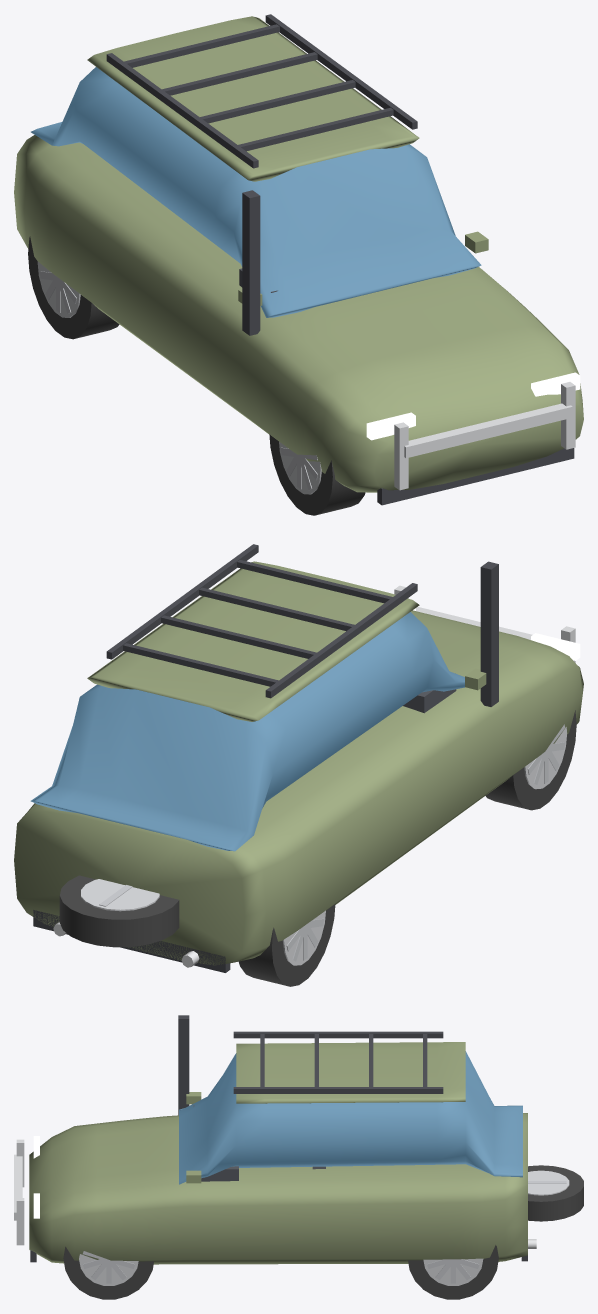
File: ridgeback.glb
The picture shows the model from 3 angles, top to bottom: view 1: azimuth 30°, elevation 25°; view 2: azimuth 150°, elevation 25°; view 3: azimuth 270°, elevation 25°; orthographic projection. The views are drawn at different scales.
Visible parts, largest first — view 1: Body, Glass, Roof, Car_ridgeback, Wheel_FR, Wheel_RR; view 2: Body, Glass, Roof, Car_ridgeback, Spare, Wheel_RR, Wheel_FR, Interior; view 3: Body, Glass, Roof, Car_ridgeback, Wheel_FL, Wheel_RL, Spare, Interior.
Boxes of the visible parts, <box> form: Body: <box>14,135,583,492</box>; Glass: <box>31,67,481,317</box>; Roof: <box>87,16,419,181</box>; Car_ridgeback: <box>106,14,580,505</box>; Wheel_FR: <box>269,434,365,515</box>; Wheel_RR: <box>28,236,119,339</box>; Body: <box>14,610,583,965</box>; Glass: <box>30,612,464,851</box>; Roof: <box>87,561,419,721</box>; Car_ridgeback: <box>33,544,580,972</box>; Spare: <box>59,875,179,947</box>; Wheel_RR: <box>239,904,335,986</box>; Wheel_FR: <box>485,710,576,810</box>; Interior: <box>403,689,456,713</box>; Body: <box>29,1113,527,1264</box>; Glass: <box>179,1051,522,1184</box>; Roof: <box>236,1042,465,1103</box>; Car_ridgeback: <box>14,1015,536,1262</box>; Wheel_FL: <box>63,1246,153,1299</box>; Wheel_RL: <box>408,1245,498,1299</box>; Spare: <box>528,1165,583,1221</box>; Interior: <box>193,1105,325,1181</box>.
Bounding box in the file's own units: 1.95 × 2.02 × 5.25.
